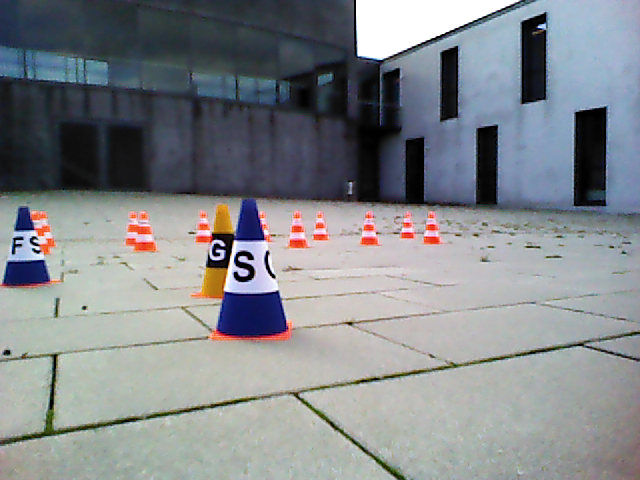bluecone: (215, 199, 289, 338), (4, 206, 50, 285)
orangeconesmall: (135, 212, 156, 251), (288, 211, 307, 249), (424, 212, 441, 244), (196, 210, 212, 243), (362, 212, 378, 245), (313, 210, 329, 239), (402, 212, 415, 238)
yellowcone: (200, 205, 228, 298)
